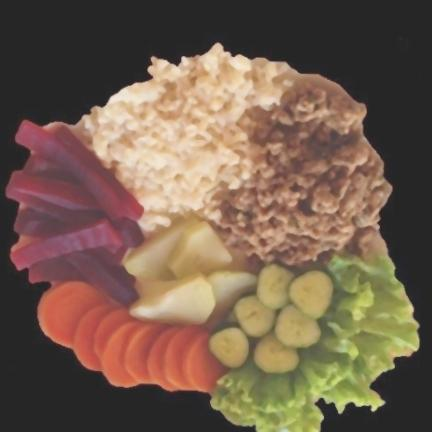beet: (5, 121, 142, 305)
carrot: (37, 280, 228, 391)
cucumber: (208, 263, 331, 372)
meat: (218, 82, 389, 265)
potato: (124, 217, 255, 322)
rice: (71, 44, 292, 232)
salad: (210, 253, 418, 431)
